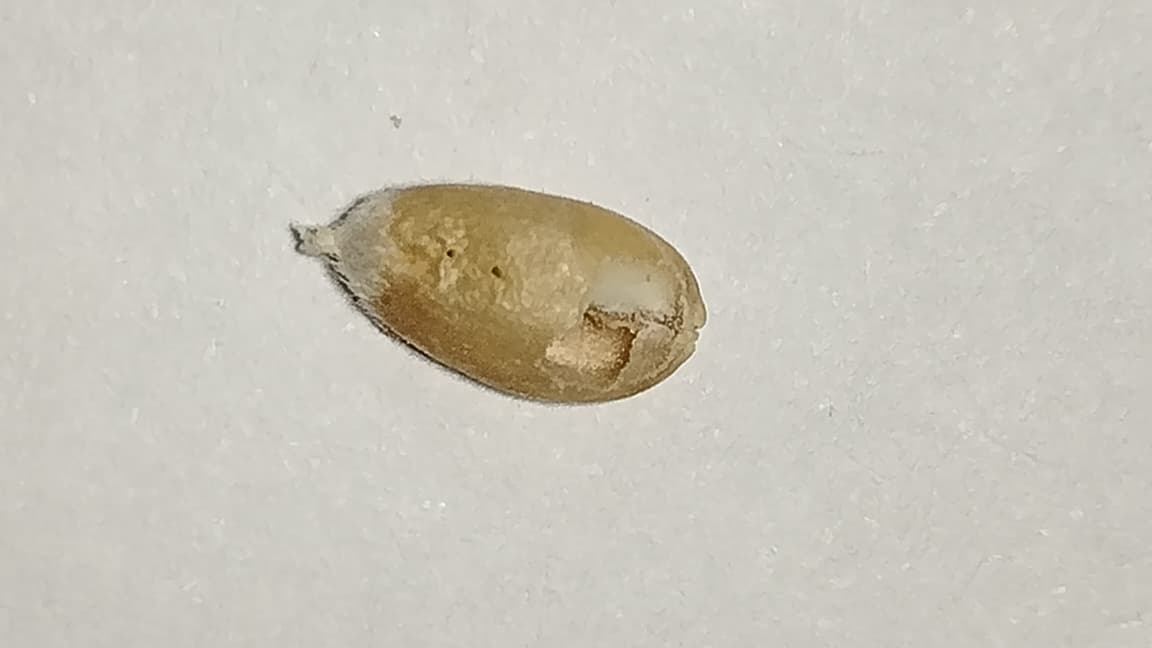damage: (338, 181, 691, 403)
insectdamage: (541, 219, 706, 391)
